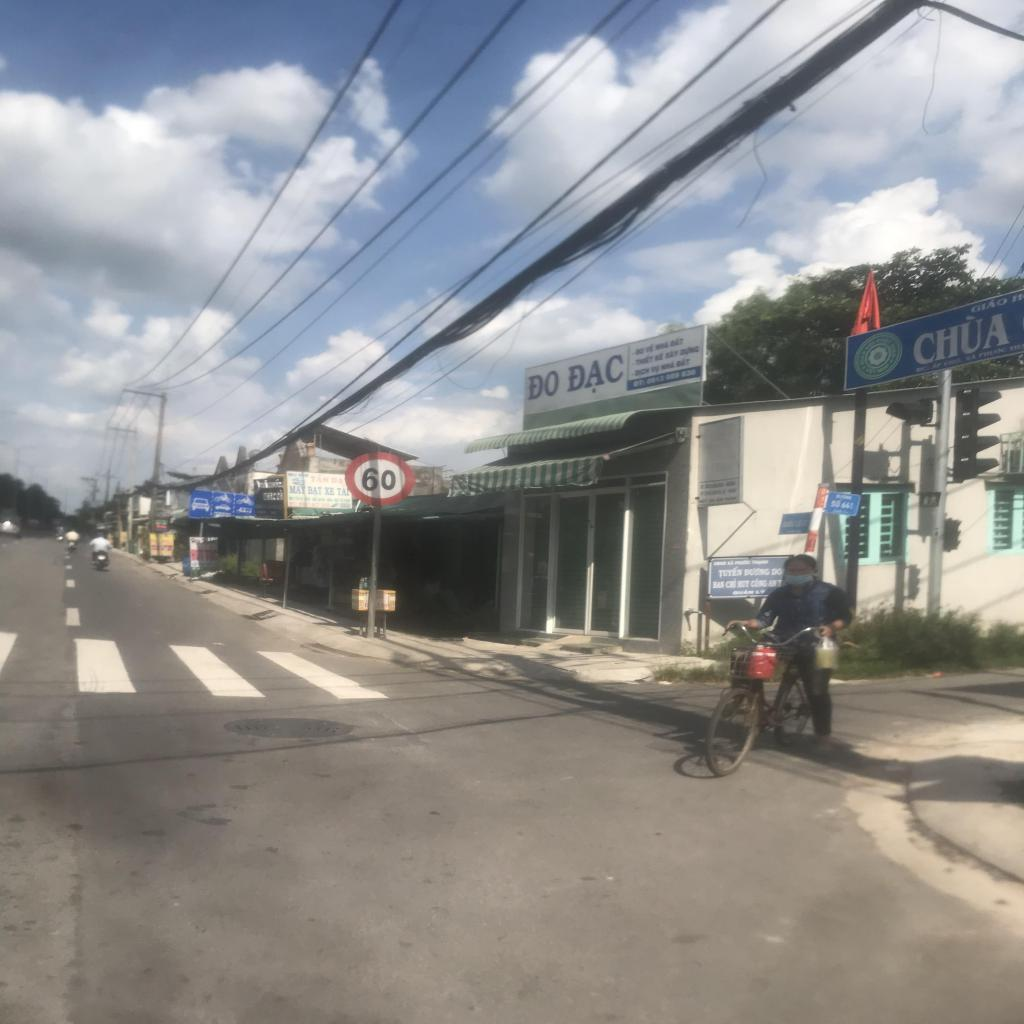lan_duong_cho_tung_xe_theo_vach_ke_duong: (189, 489, 254, 518)
toc_do_toi_da_60: (347, 451, 415, 505)
